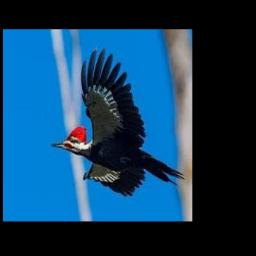Woodpecker: (52, 47, 185, 196)
